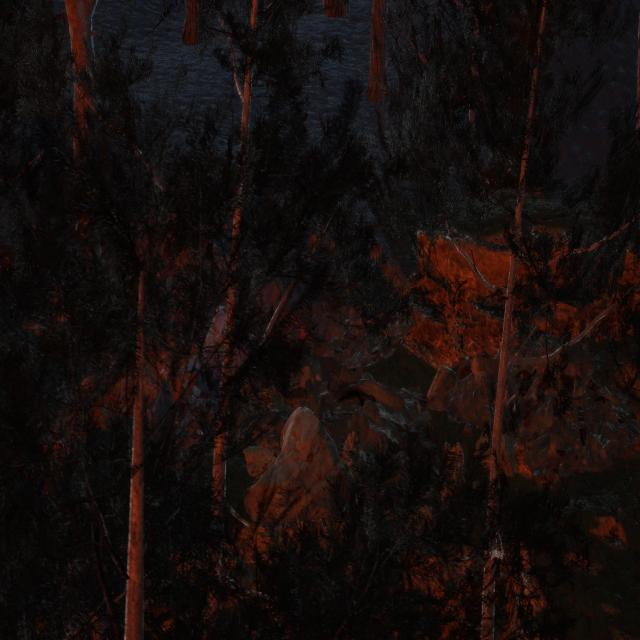Human: (345, 413, 406, 474)
